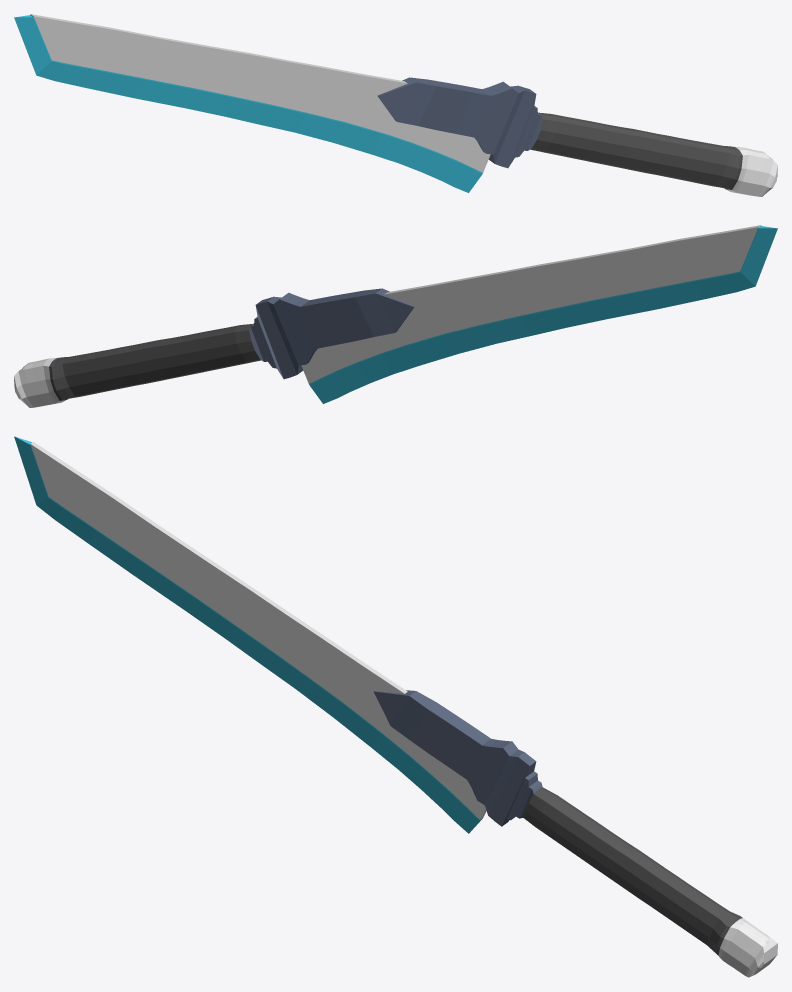
File: sword.fbx
3 renders of one model, top to bottom at view 1: azimuth 30°, elevation 25°; view 2: azimuth 150°, elevation 25°; view 3: azimuth 330°, elevation 25°, orthographic.
Visible parts, largest first — view 1: Sharp part, Hand part; view 2: Sharp part, Hand part; view 3: Sharp part, Hand part.
Part boxes in pixels (<box>): Sharp part: <box>14,14,490,192</box>; Hand part: <box>377,77,777,196</box>; Sharp part: <box>301,225,777,403</box>; Hand part: <box>14,288,414,407</box>; Sharp part: <box>14,436,486,833</box>; Hand part: <box>373,690,777,977</box>.
Size of the model in its own units: 495 by 222 by 21.11.
Materials: 2 (2 with a texture image).
